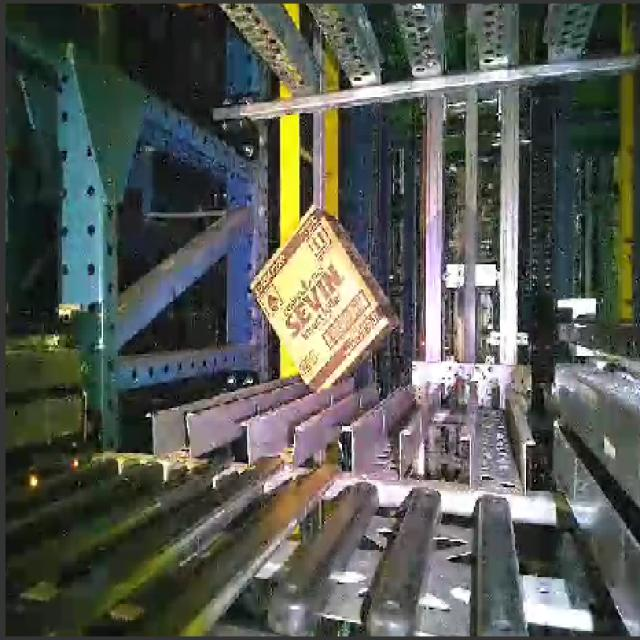box: (227, 203, 405, 402)
